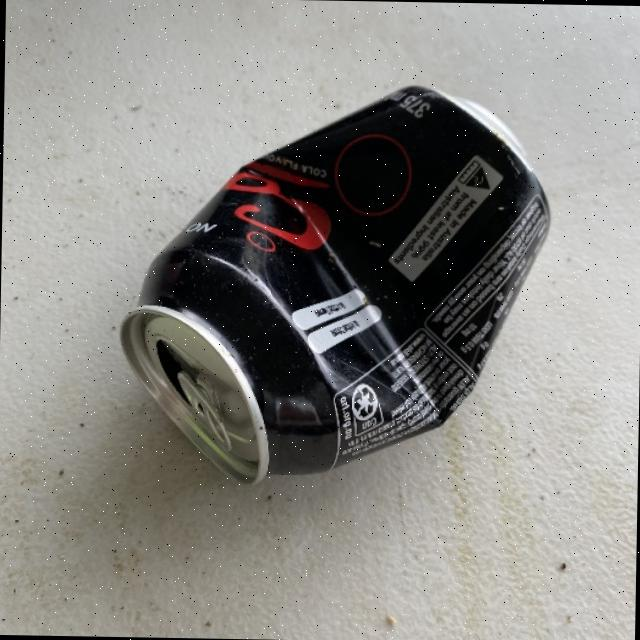metal: (115, 77, 552, 491)
